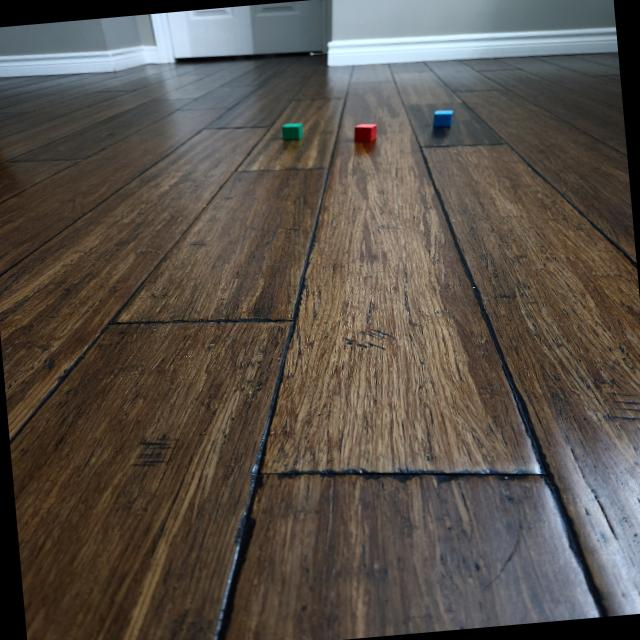bluecube: (433, 108, 453, 128)
green cube: (281, 121, 304, 141)
red cube: (354, 120, 378, 144)
